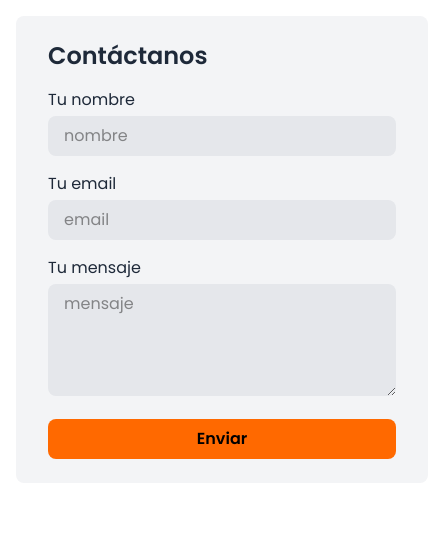
Contact › muestra un error si faltan campos y no envía nada
What coordinates should you click on to do the following:
click the button "Enviar"
I would click on:
 (222, 439)
Its box is [48,419,396,459].
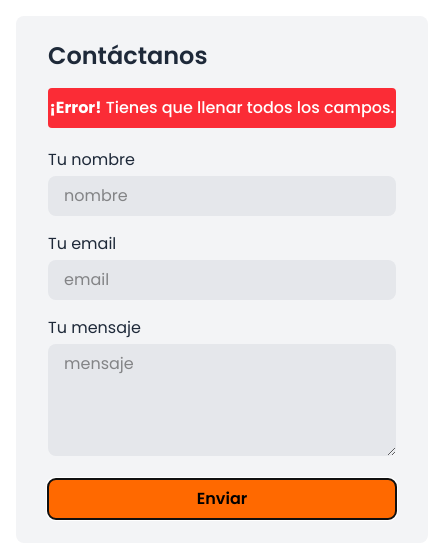
Expected: the message shows "Tienes que llenar todos los campos.", [106,96,394,119]
